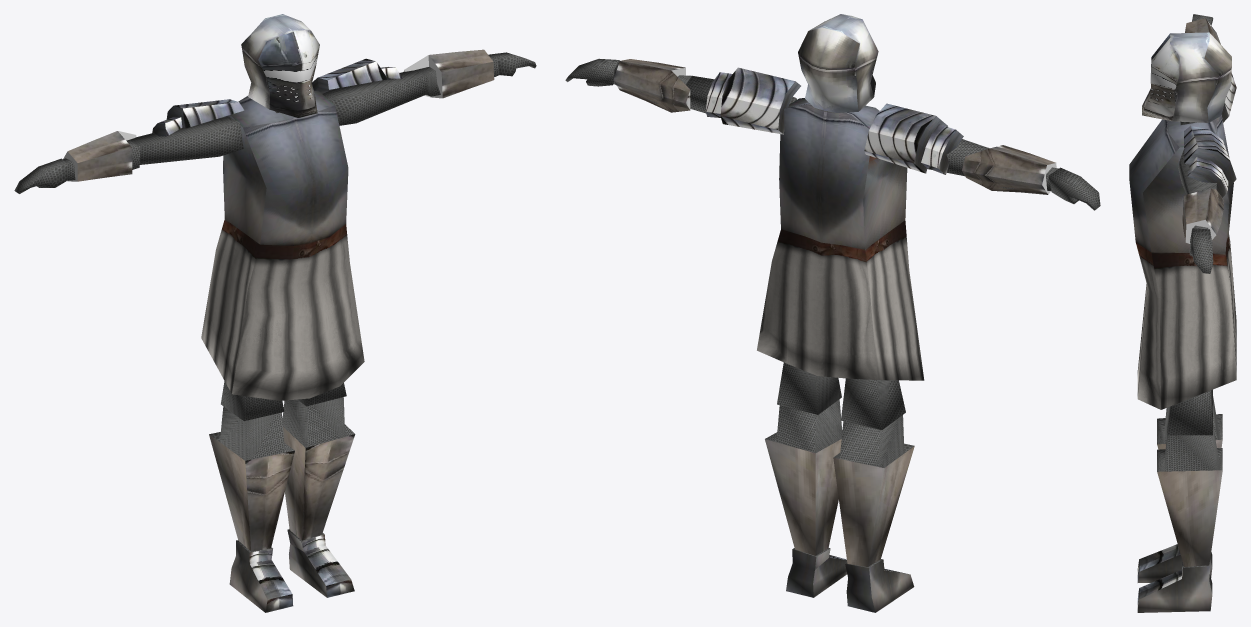
File: Knight_Valerius.fbx
3 renders of one model, left to right at view 1: azimuth 30°, elevation 25°; view 2: azimuth 150°, elevation 25°; view 3: azimuth 270°, elevation 25°, orthographic. The views are drawn at different scales.
Parts seen in each view (by area): view 1: Body, Helmet, Guntlets, Shoulder_pads; view 2: Body, Shoulder_pads, Guntlets, Helmet; view 3: Body, Helmet, Shoulder_pads, Guntlets.
Part boxes in pixels (<box>): Body: <box>14,52,536,612</box>; Helmet: <box>241,14,319,117</box>; Guntlets: <box>63,49,494,181</box>; Shoulder_pads: <box>152,58,402,136</box>; Body: <box>565,58,1100,612</box>; Shoulder_pads: <box>705,67,963,174</box>; Guntlets: <box>613,59,1056,194</box>; Helmet: <box>798,14,878,112</box>; Body: <box>1129,14,1236,612</box>; Helmet: <box>1142,32,1231,122</box>; Shoulder_pads: <box>1184,73,1236,197</box>; Guntlets: <box>1182,18,1223,243</box>.
Size of the model in its own units: 190 by 196 by 34.45.
Materials: 2 (2 with a texture image).
